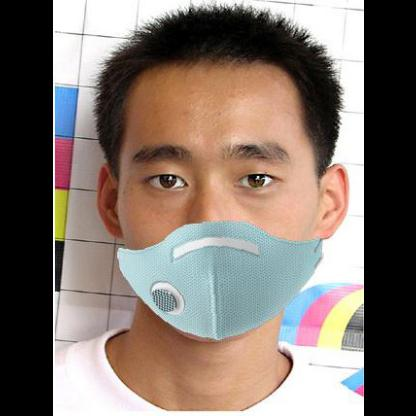FFP Mask: (84, 32, 343, 332)
